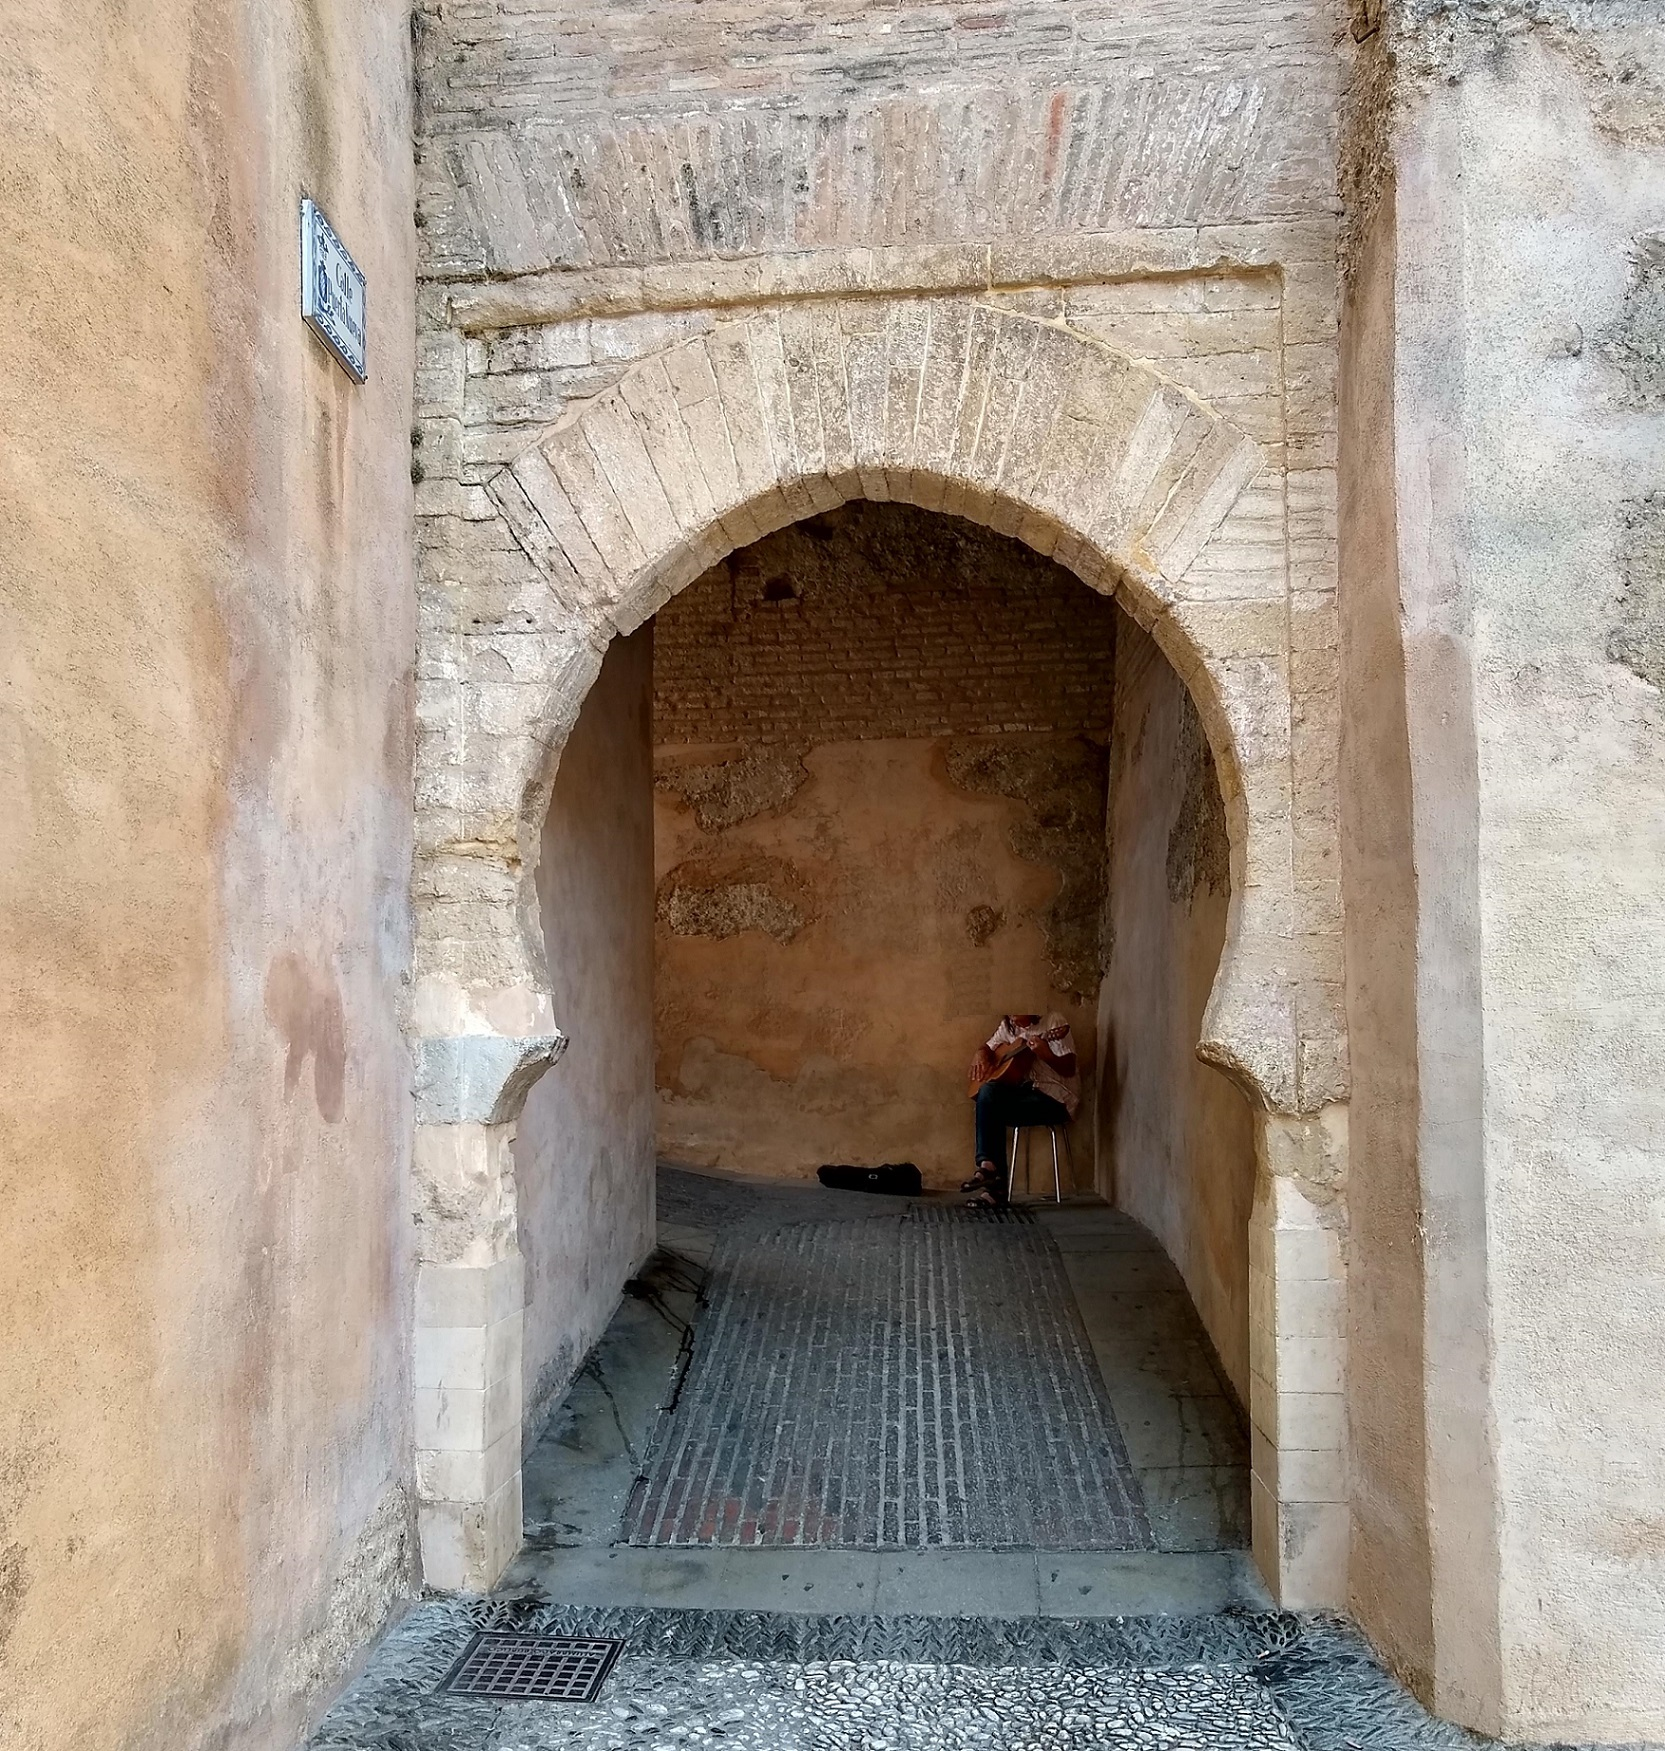arco-herradura: (450, 421, 1326, 1173)
